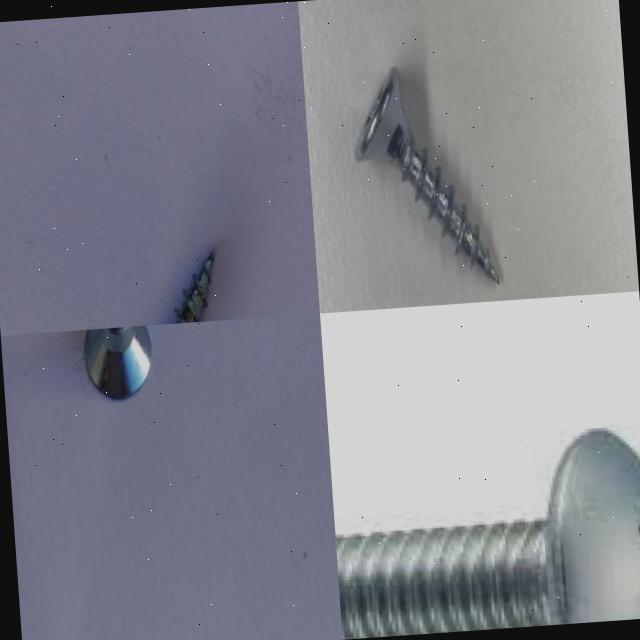Screw: (335, 427, 640, 639), (354, 66, 499, 282), (84, 325, 151, 397), (173, 248, 214, 323)
